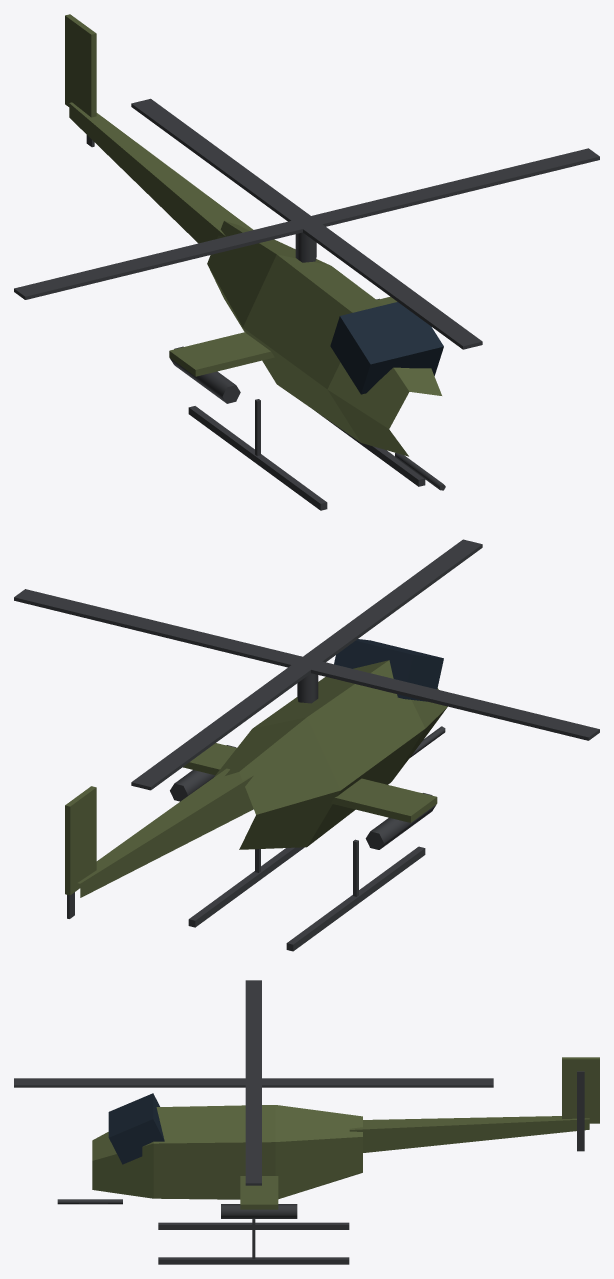
The model's file is veh_air_heli_attack_a06_lod1.glb.
The picture shows the model from 3 angles, top to bottom: view 1: azimuth 30°, elevation 25°; view 2: azimuth 150°, elevation 25°; view 3: azimuth 270°, elevation 25°; orthographic projection. The views are drawn at different scales.
Visible parts, largest first — view 1: body, rotor; view 2: body, rotor; view 3: body, rotor, tail_rotor, gun.
Part boxes in pixels (x1,y1,x2,y2): body: (65, 14, 443, 510); rotor: (14, 98, 599, 349); body: (65, 639, 447, 951); rotor: (14, 539, 599, 790); body: (92, 1057, 599, 1264); rotor: (14, 980, 493, 1185); tail_rotor: (577, 1071, 584, 1151); gun: (57, 1199, 122, 1204).
Bounding box in the file's own units: 8.8 × 3.8 × 10.75.
